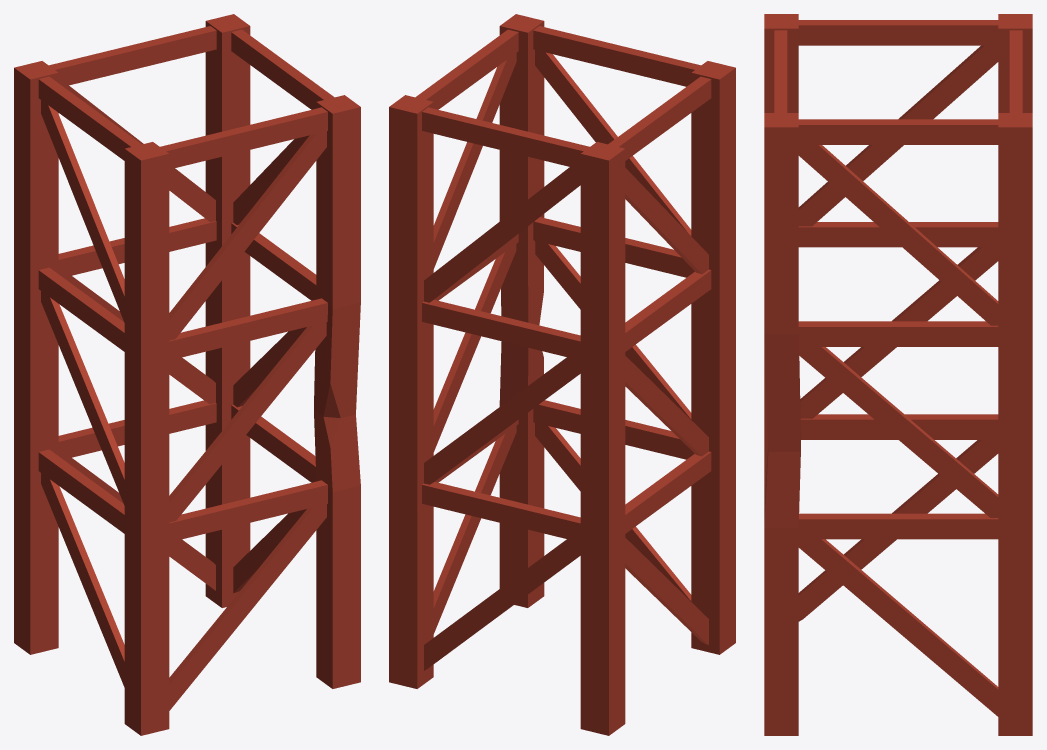
File: SM_Prop_Elevator_Frame_01.fbx
3 renders of one model, left to right at view 1: azimuth 30°, elevation 25°; view 2: azimuth 150°, elevation 25°; view 3: azimuth 270°, elevation 25°, orthographic. The views are drawn at different scales.
Visible parts, largest first — view 1: SM_Prop_Elevator_Frame_01; view 2: SM_Prop_Elevator_Frame_01; view 3: SM_Prop_Elevator_Frame_01.
Boxes of the visible parts, x1,y1,x2,y2 form: SM_Prop_Elevator_Frame_01: (14, 14, 360, 735); SM_Prop_Elevator_Frame_01: (389, 14, 735, 735); SM_Prop_Elevator_Frame_01: (764, 14, 1032, 735).
Bounding box in the file's own units: 200 × 500 × 200.
